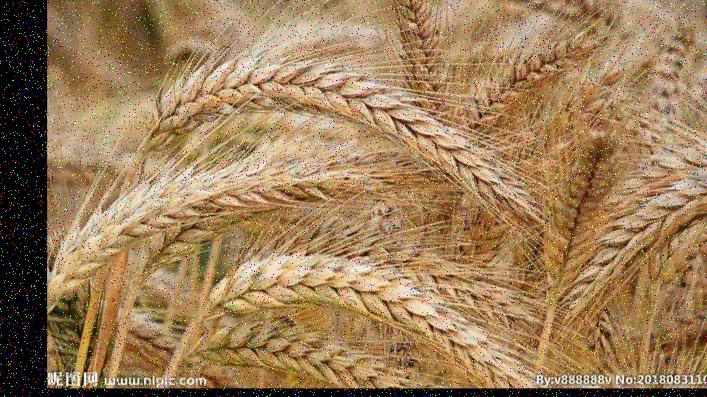wheat: (49, 147, 415, 295), (135, 63, 527, 201), (197, 253, 521, 387)
